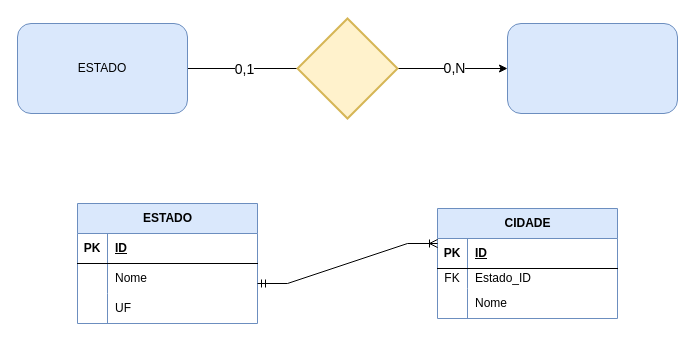
This 695x341 diagram has some shape labels left out. Here are the shapes that lost their labels. From the top down, the centre of each, then its label:
At (347,68): "POSSUI".
At (592,68): "CIDADES".
